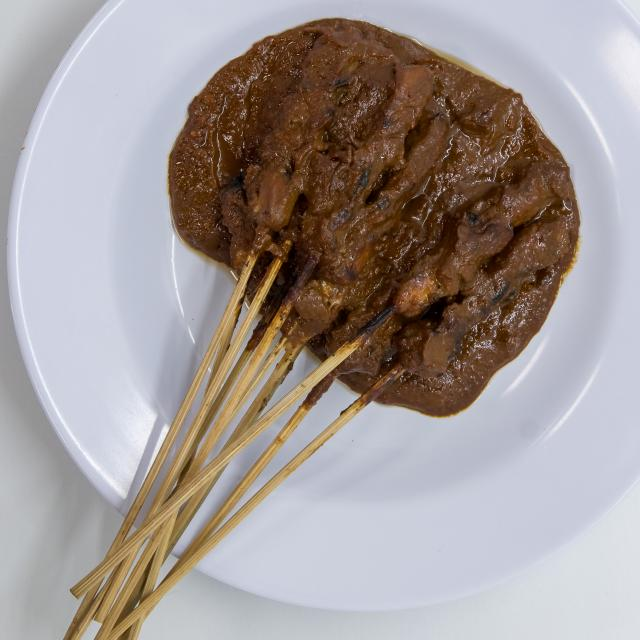Sate-Ayam: (170, 27, 588, 435)
